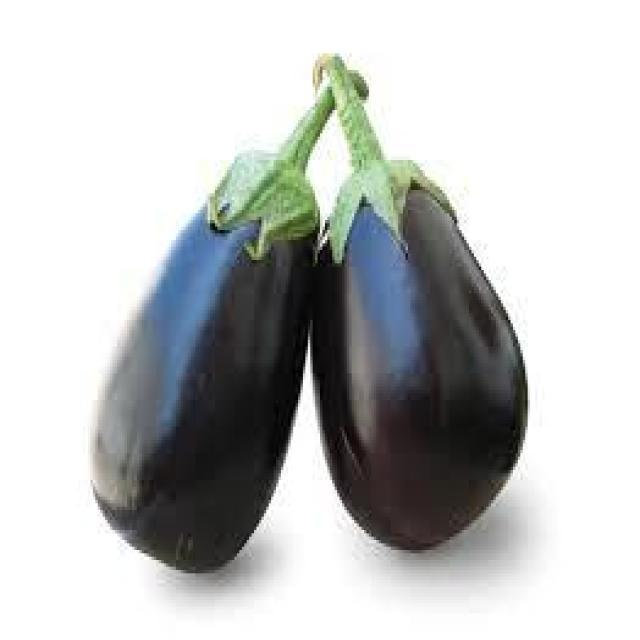eggplant: (88, 70, 368, 574), (308, 50, 529, 552)
